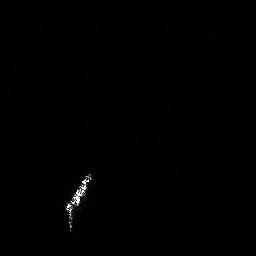ship: (62, 170, 96, 232)
